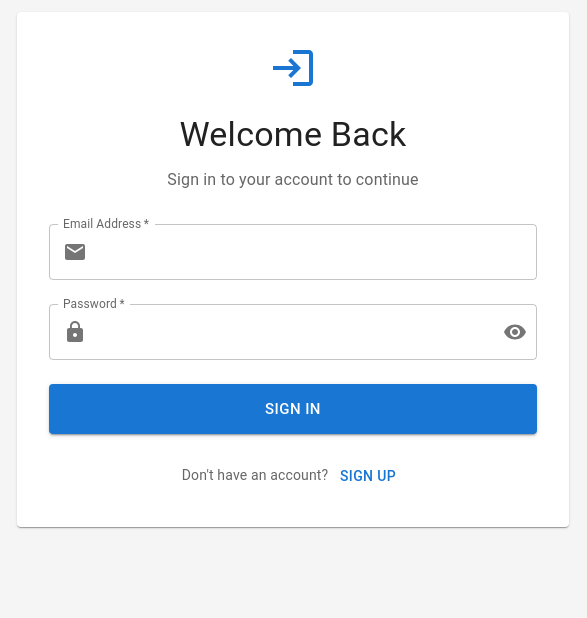
Scenario: LoginPage Component › closes error alert when close button is clicked
Type "test@example.com" into the field labelled "Email Address *" at (316, 252), box [95,224,537,280]
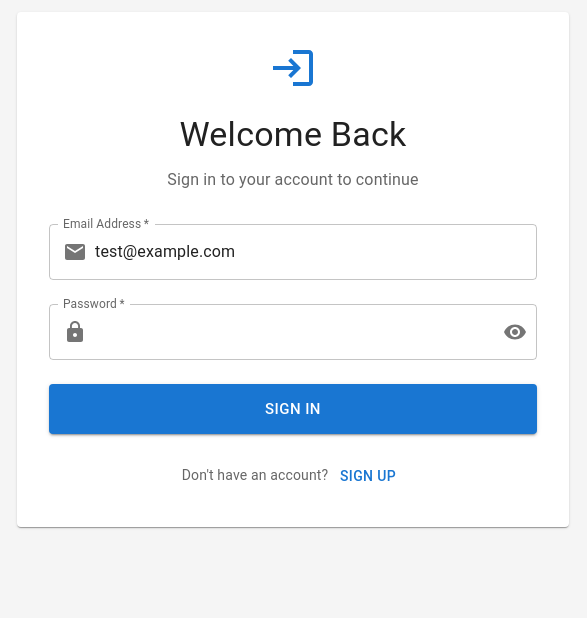
Type "wrongpassword" into the password field labelled "Password *" at (291, 332), box [95,304,487,360]
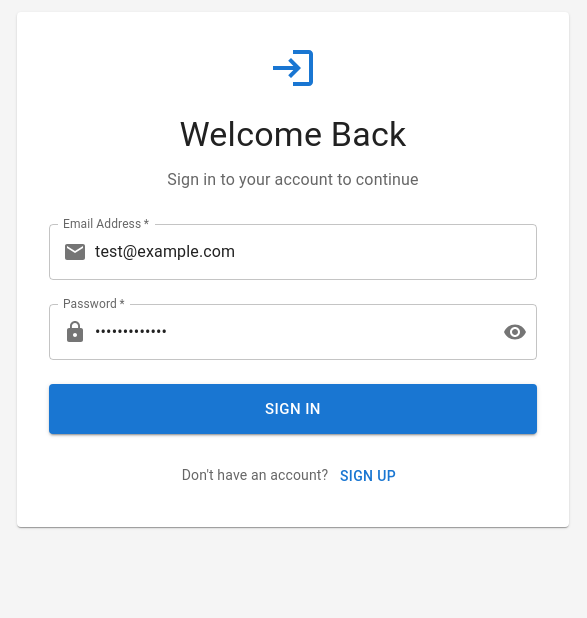
Click the button "Sign In" at (293, 409), box [49,384,537,434]
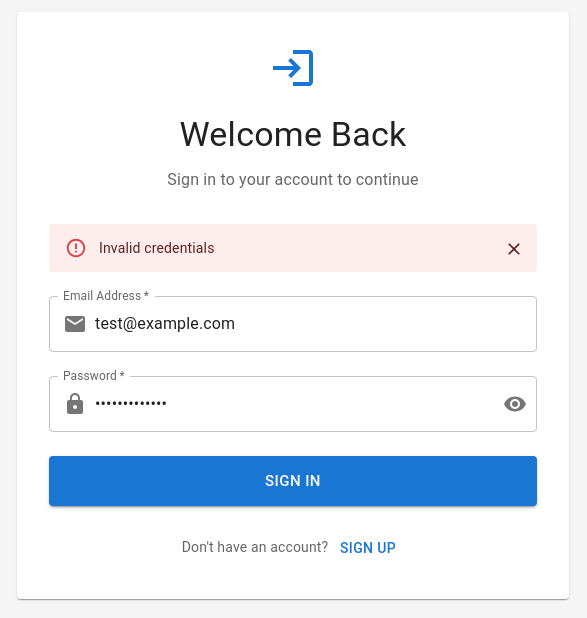
expect the text "Invalid credentials" is shown: met, box [99,240,214,256]
Click the button named "close" at (514, 249), box [499,234,529,264]
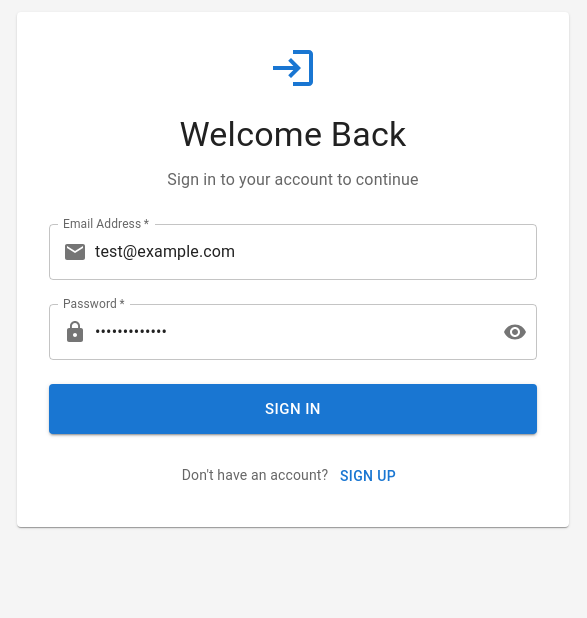
expect the text "Invalid credentials" is gone: met
